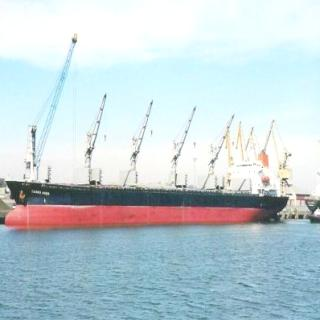Bulk Carrier: (0, 43, 305, 230)
